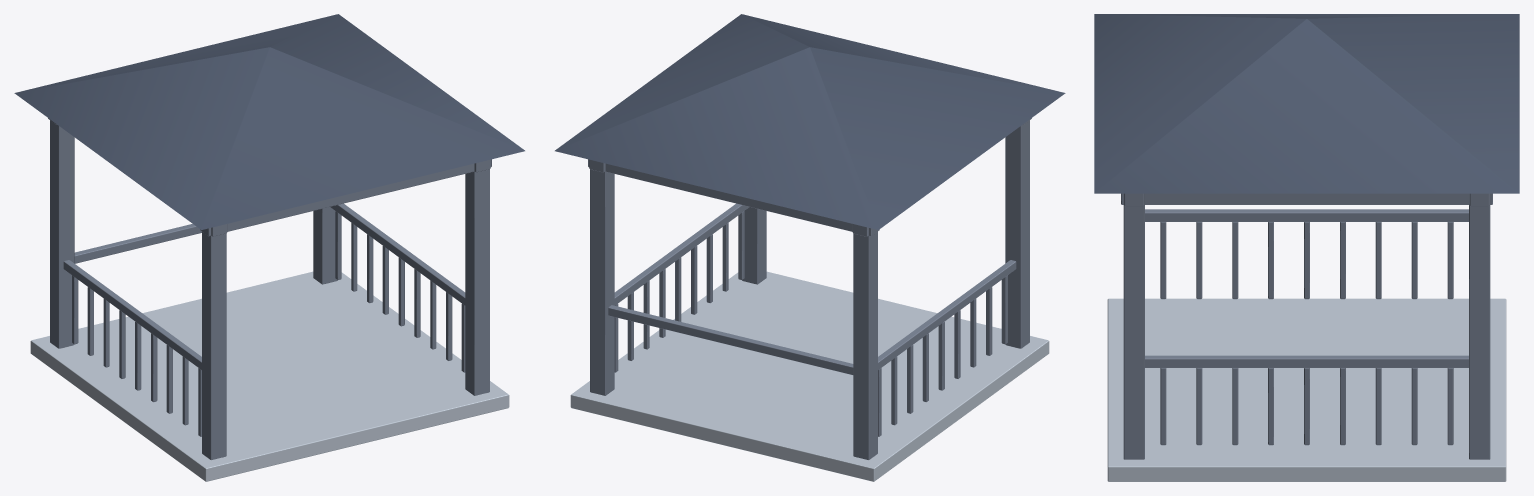
The model's file is 四角凉亭-lite.glb.
The picture shows the model from 3 angles, left to right: view 1: azimuth 30°, elevation 25°; view 2: azimuth 150°, elevation 25°; view 3: azimuth 270°, elevation 25°; orthographic projection. The views are drawn at different scales.
Parts seen in each view (by area): view 1: garden-gazebo; view 2: garden-gazebo; view 3: garden-gazebo.
Boxes of the visible parts, bbox=[...] form: garden-gazebo: bbox=[14, 14, 524, 481]; garden-gazebo: bbox=[555, 14, 1065, 481]; garden-gazebo: bbox=[1094, 14, 1519, 481].
Bounding box in the file's own units: 3.2 × 3.15 × 3.2.
